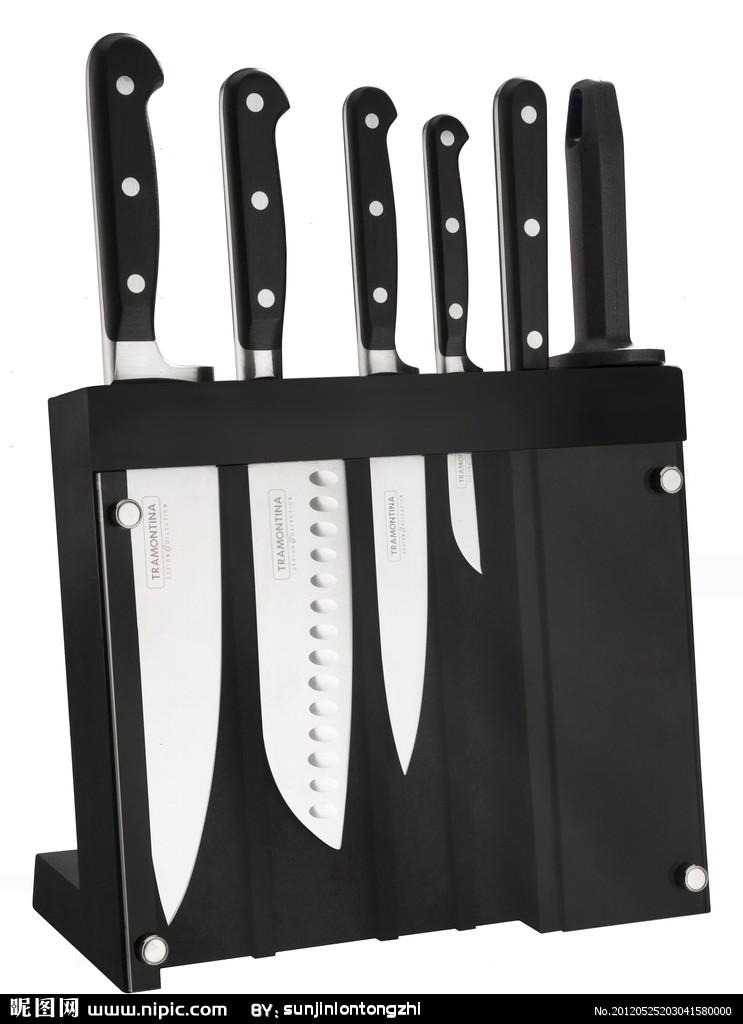knife: (37, 6, 717, 989)
